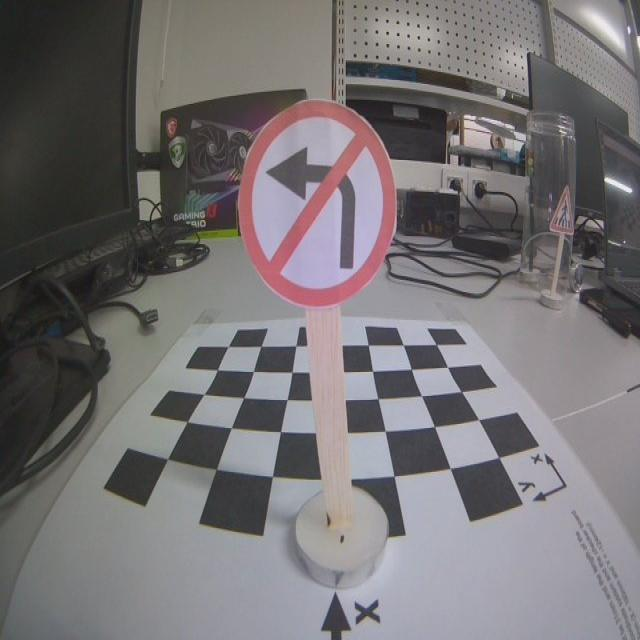Dilarang Belok Kiri: (238, 100, 398, 306)
